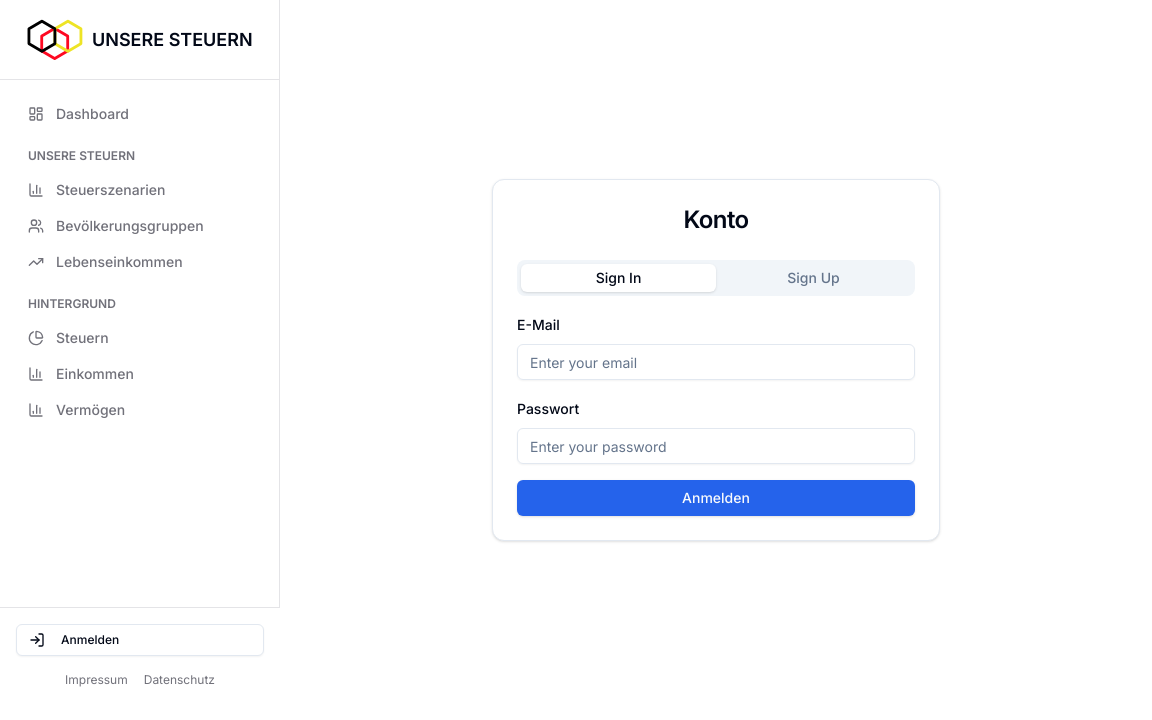
Test case: Authentication › should show error message with invalid credentials
Click the tab "Sign In" at [619, 278], box [521, 264, 716, 292]
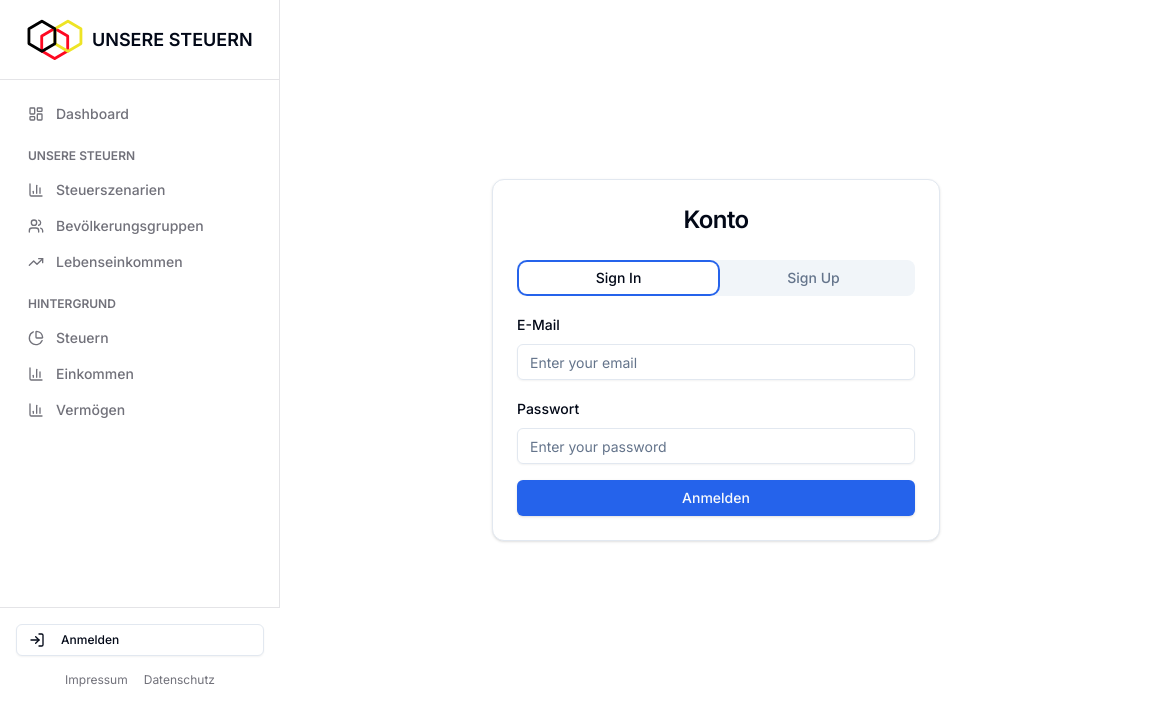
Type "wrong@example.com" into the field with id "signin-email" at [716, 362], box [517, 344, 915, 380]
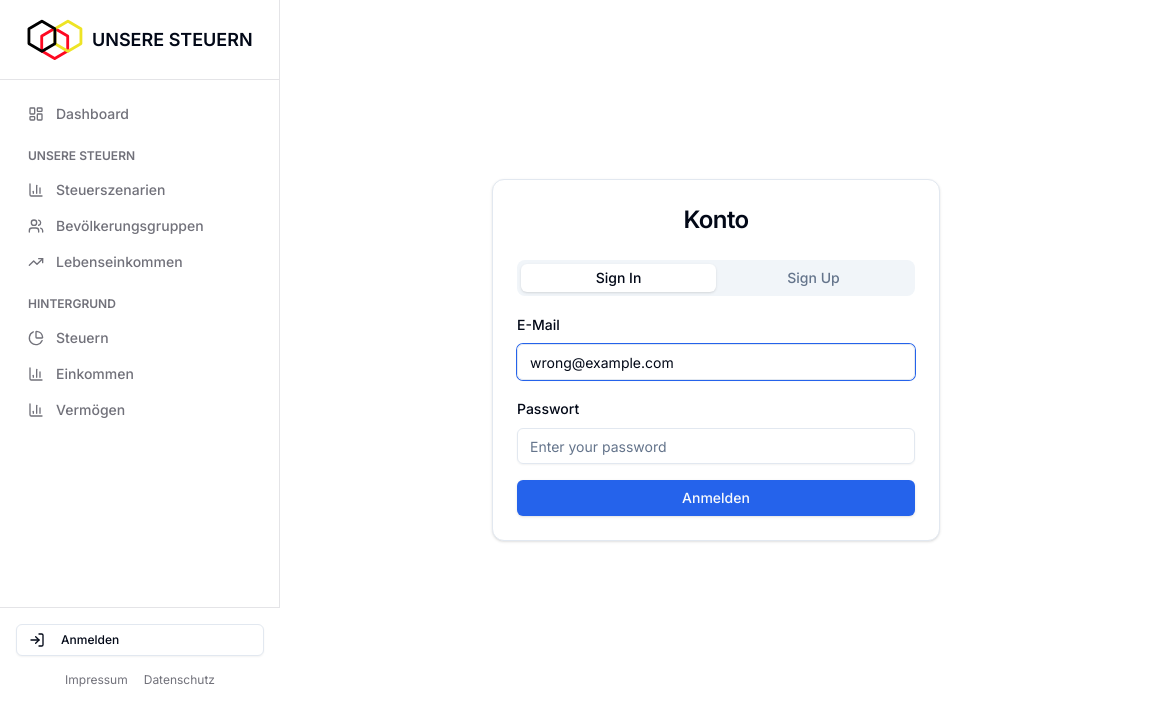
Type "wrongpassword" into the password field with id "signin-password" at [716, 446], box [517, 428, 915, 464]
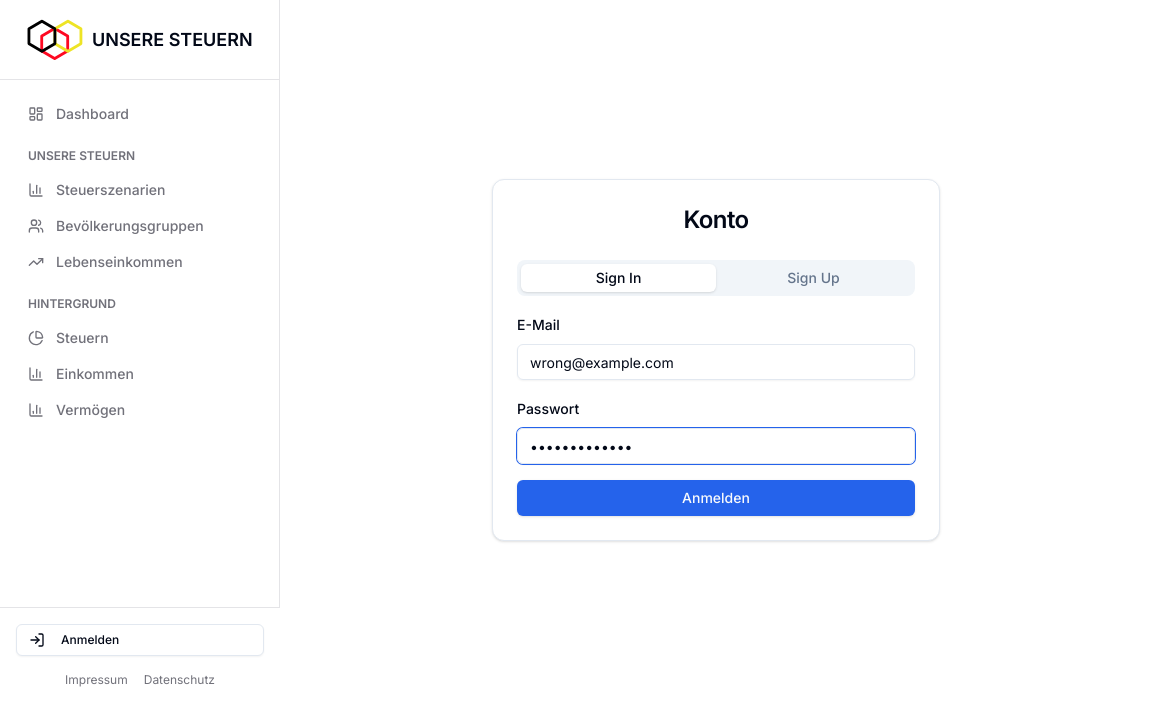
Click the button "Anmelden" below "Passwort" at [716, 498], box [517, 480, 915, 516]
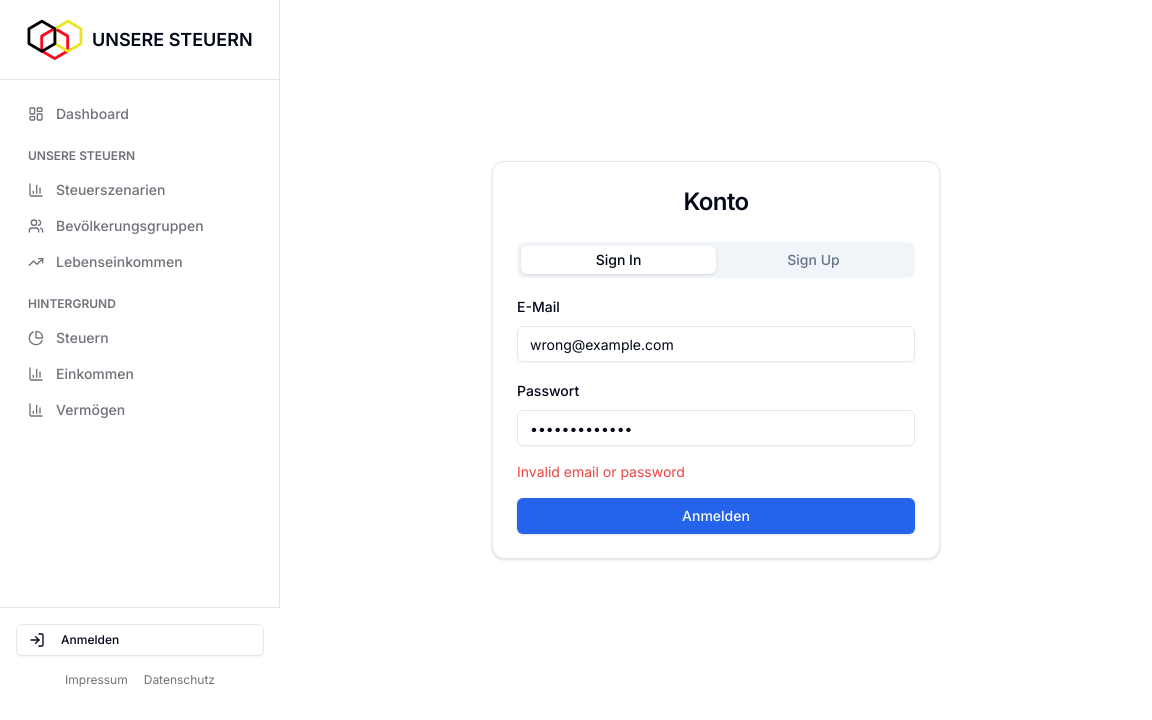
expect the text "Invalid email or password" is shown: met, box [517, 463, 685, 480]
